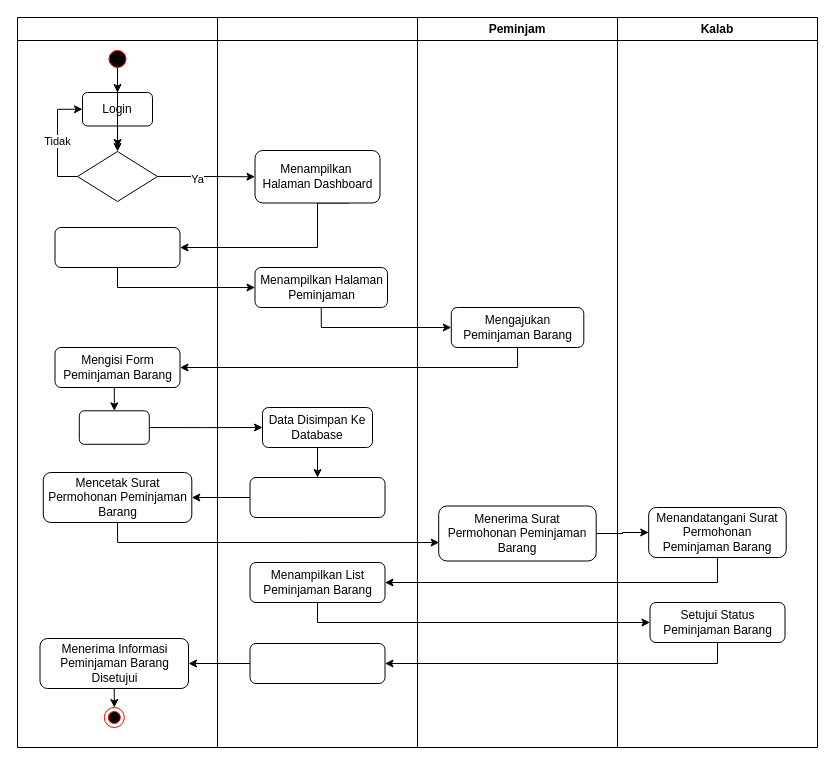
The diagram is 835 pixels wide and 765 high, and some of its shapes have lost their labels. Each missing label, with the box of its shape:
Admin/Toolman: (16, 16, 218, 748)
Data Valid: (76, 150, 158, 202)
Kirim Status Disetujui: (249, 642, 385, 684)
Menampikan List Peminjaman Barang: (249, 476, 385, 518)
Pilih Halaman Peminjaman: (54, 226, 180, 268)
Sistem: (216, 16, 418, 748)
Submit: (78, 410, 149, 444)
